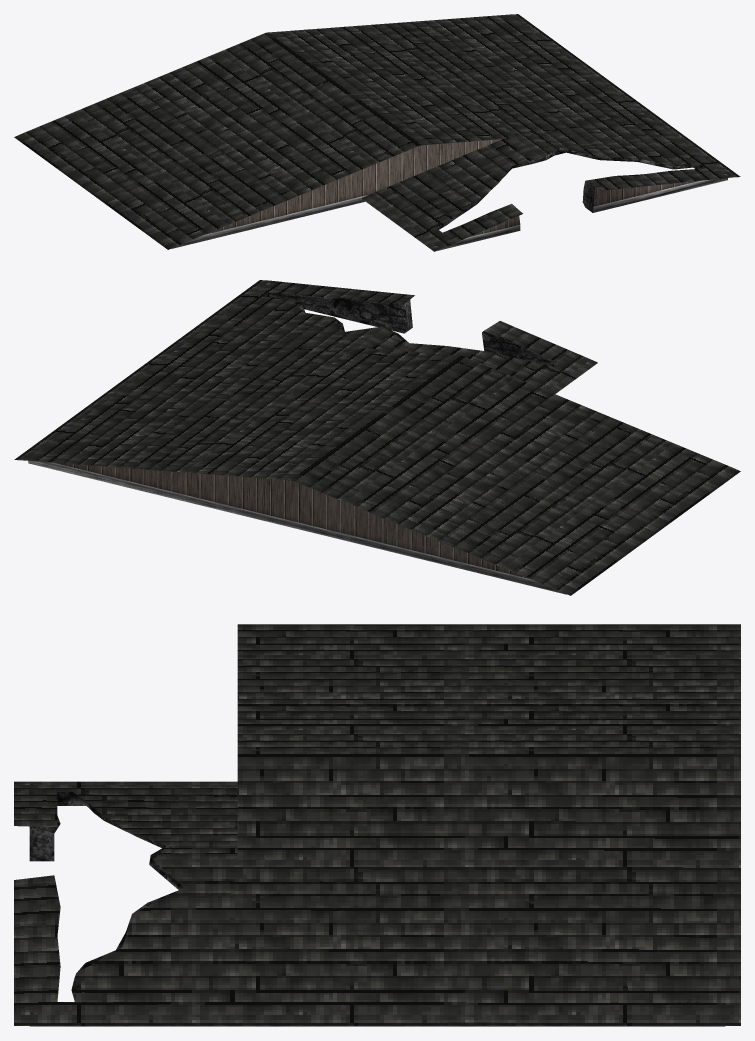
The model's file is roof15.obj.
3 renders of one model, top to bottom at view 1: azimuth 30°, elevation 25°; view 2: azimuth 150°, elevation 25°; view 3: azimuth 270°, elevation 25°, orthographic. The views are drawn at different scales.
Visible parts, largest first — view 1: PRLD07B.005, PRLD07B.015; view 2: PRLD07B.005, PRLD07B.015; view 3: PRLD07B.005, PRLD07B.015.
Boxes of the visible parts, bbox=[...] form: PRLD07B.005: bbox=[14, 14, 740, 251]; PRLD07B.015: bbox=[171, 139, 727, 250]; PRLD07B.005: bbox=[14, 280, 740, 595]; PRLD07B.015: bbox=[28, 292, 566, 594]; PRLD07B.005: bbox=[14, 624, 740, 1025]; PRLD07B.015: bbox=[29, 792, 725, 1026].
Bounding box in the file's own units: 612 × 55.1 × 468.
